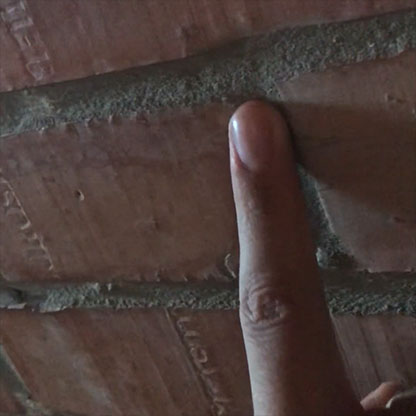fingertip: (209, 92, 301, 187)
